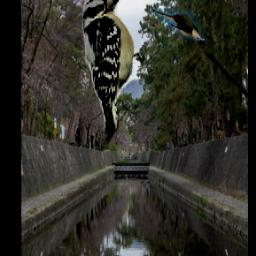Cuckoo: (152, 8, 206, 40)
Woodpecker: (81, 0, 152, 146)
